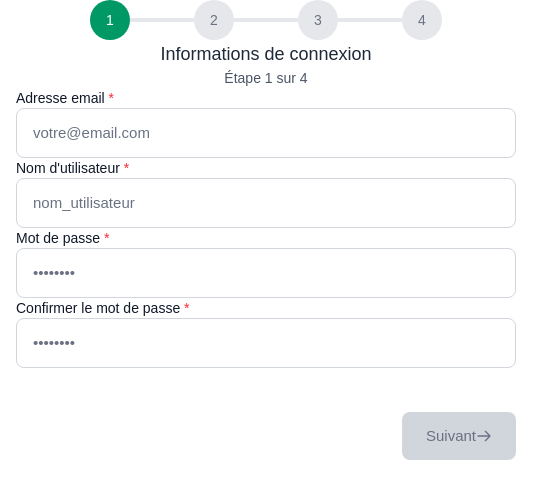
MultiStepRegisterForm.vue › Navigation entre étapes › devrait permettre de passer à l'étape 2 avec des données valides
This screenshot has width=533, height=479.
In the field with id "email": (266, 133) [16, 108, 516, 158], type "test@example.com"
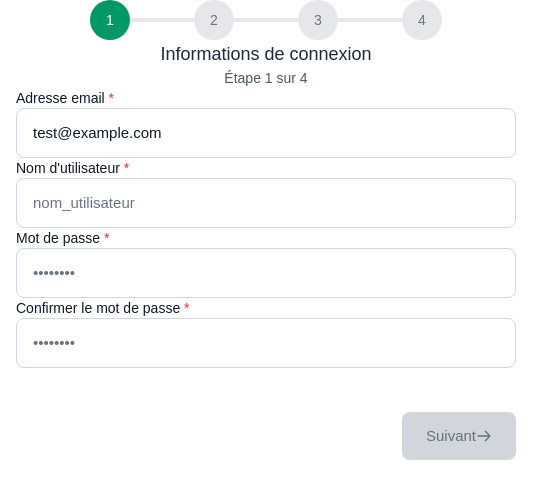
In the field with id "username": (266, 203) [16, 178, 516, 228], type "testuser"
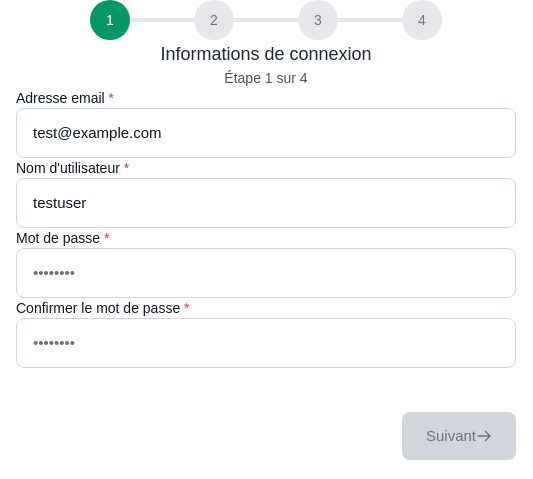
In the password field labelled "Mot de passe *": (266, 273) [16, 248, 516, 298], type "password123"
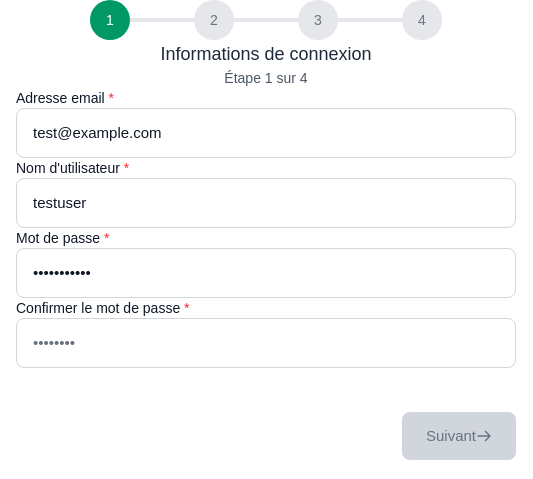
In the password field with id "confirmPassword": (266, 343) [16, 318, 516, 368], type "password123"
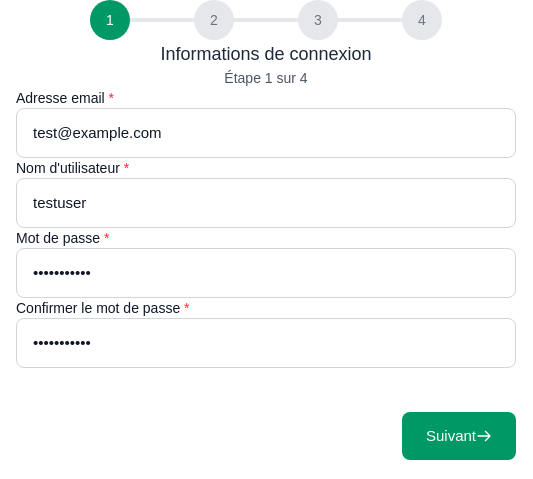
expect the button "Suivant" is enabled: met
Click the button "Suivant": (459, 436) [402, 412, 516, 460]
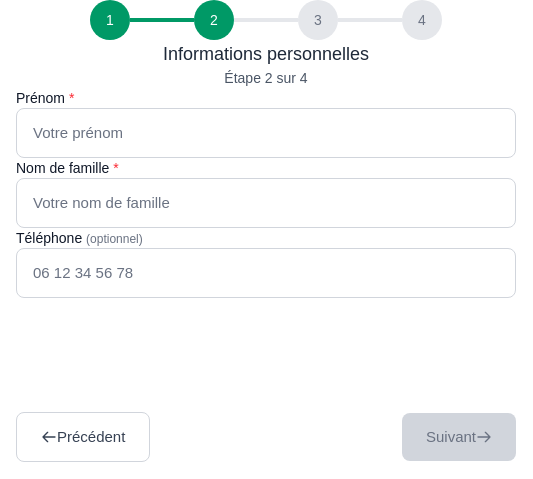
expect the text "Informations personnelles" is shown: met, box [163, 44, 369, 64]
